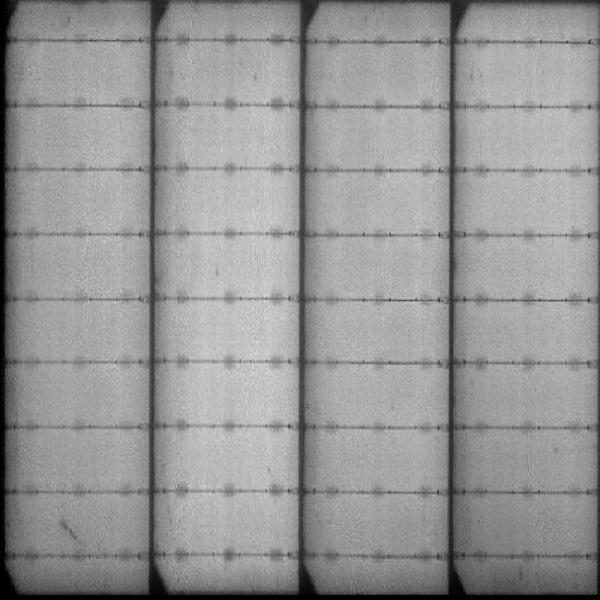scratch: (58, 520, 92, 547)
